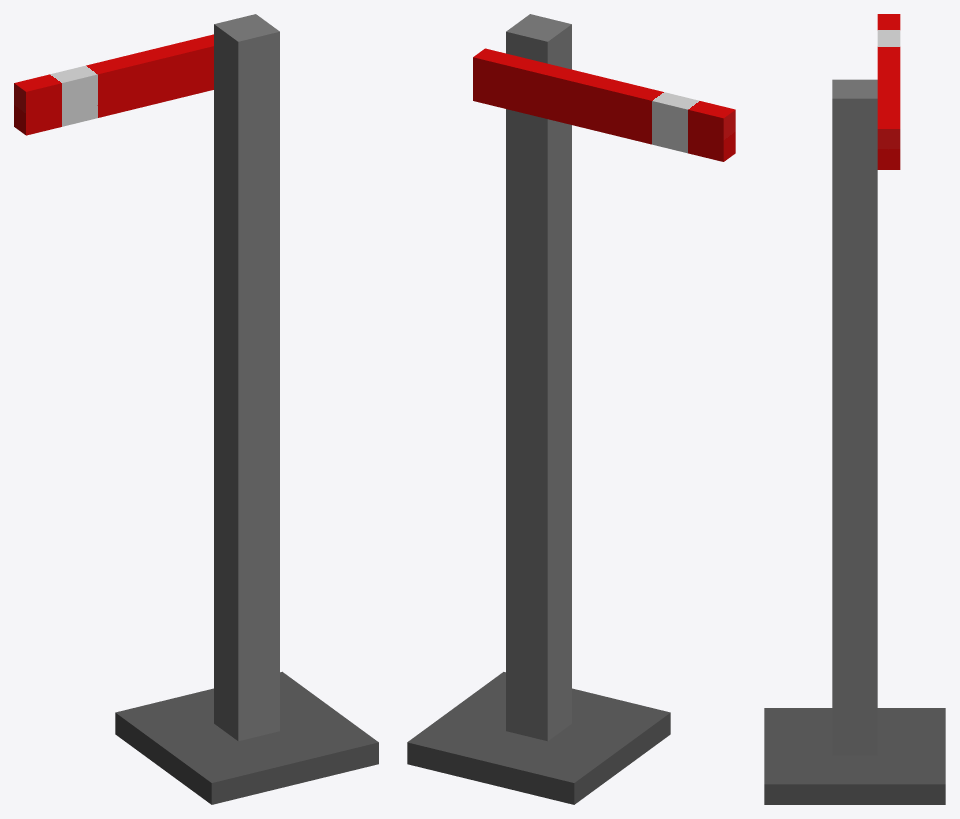
The model's file is formsignal.obj.
3 views of the same model, side by side, from view 1: azimuth 30°, elevation 25°; view 2: azimuth 150°, elevation 25°; view 3: azimuth 270°, elevation 25° (orthographic). The views are drawn at different scales.
Visible parts, largest first — view 1: baseStand, basePlate, signal; view 2: baseStand, basePlate, signal; view 3: baseStand, basePlate, signal.
Boxes of the visible parts, x1,y1,x2,y2 form: baseStand: (214,14,279,741); basePlate: (115,671,378,804); signal: (14,34,213,135); baseStand: (506,14,571,741); basePlate: (407,672,670,804); signal: (473,48,735,161); baseStand: (832,79,877,755); basePlate: (764,708,945,804); signal: (877,14,900,169).
Size of the model in its own units: 0.875 by 2.06 by 0.5.
